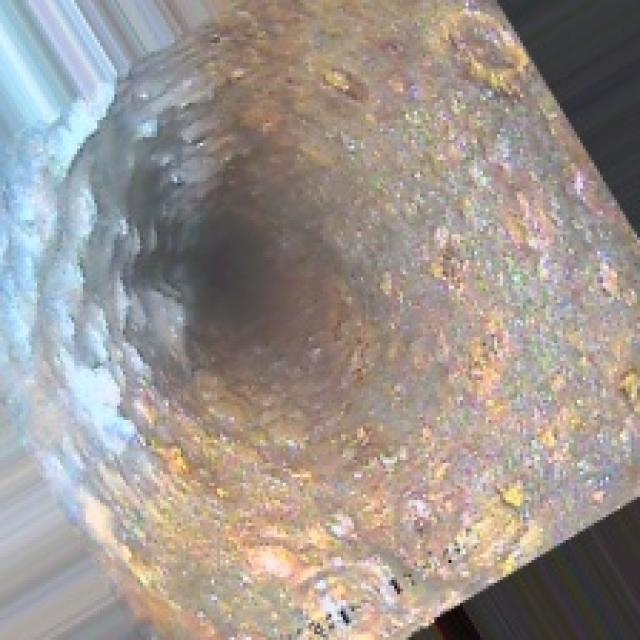encrustation: (29, 83, 448, 523)
